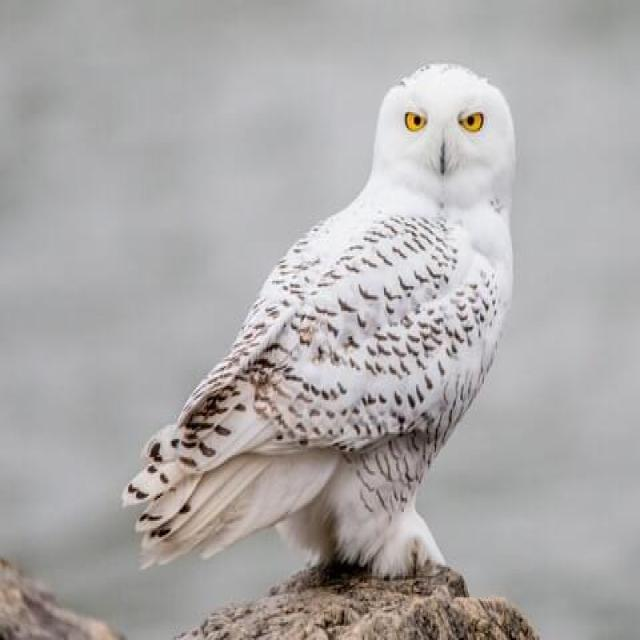owl: (86, 45, 542, 585)
